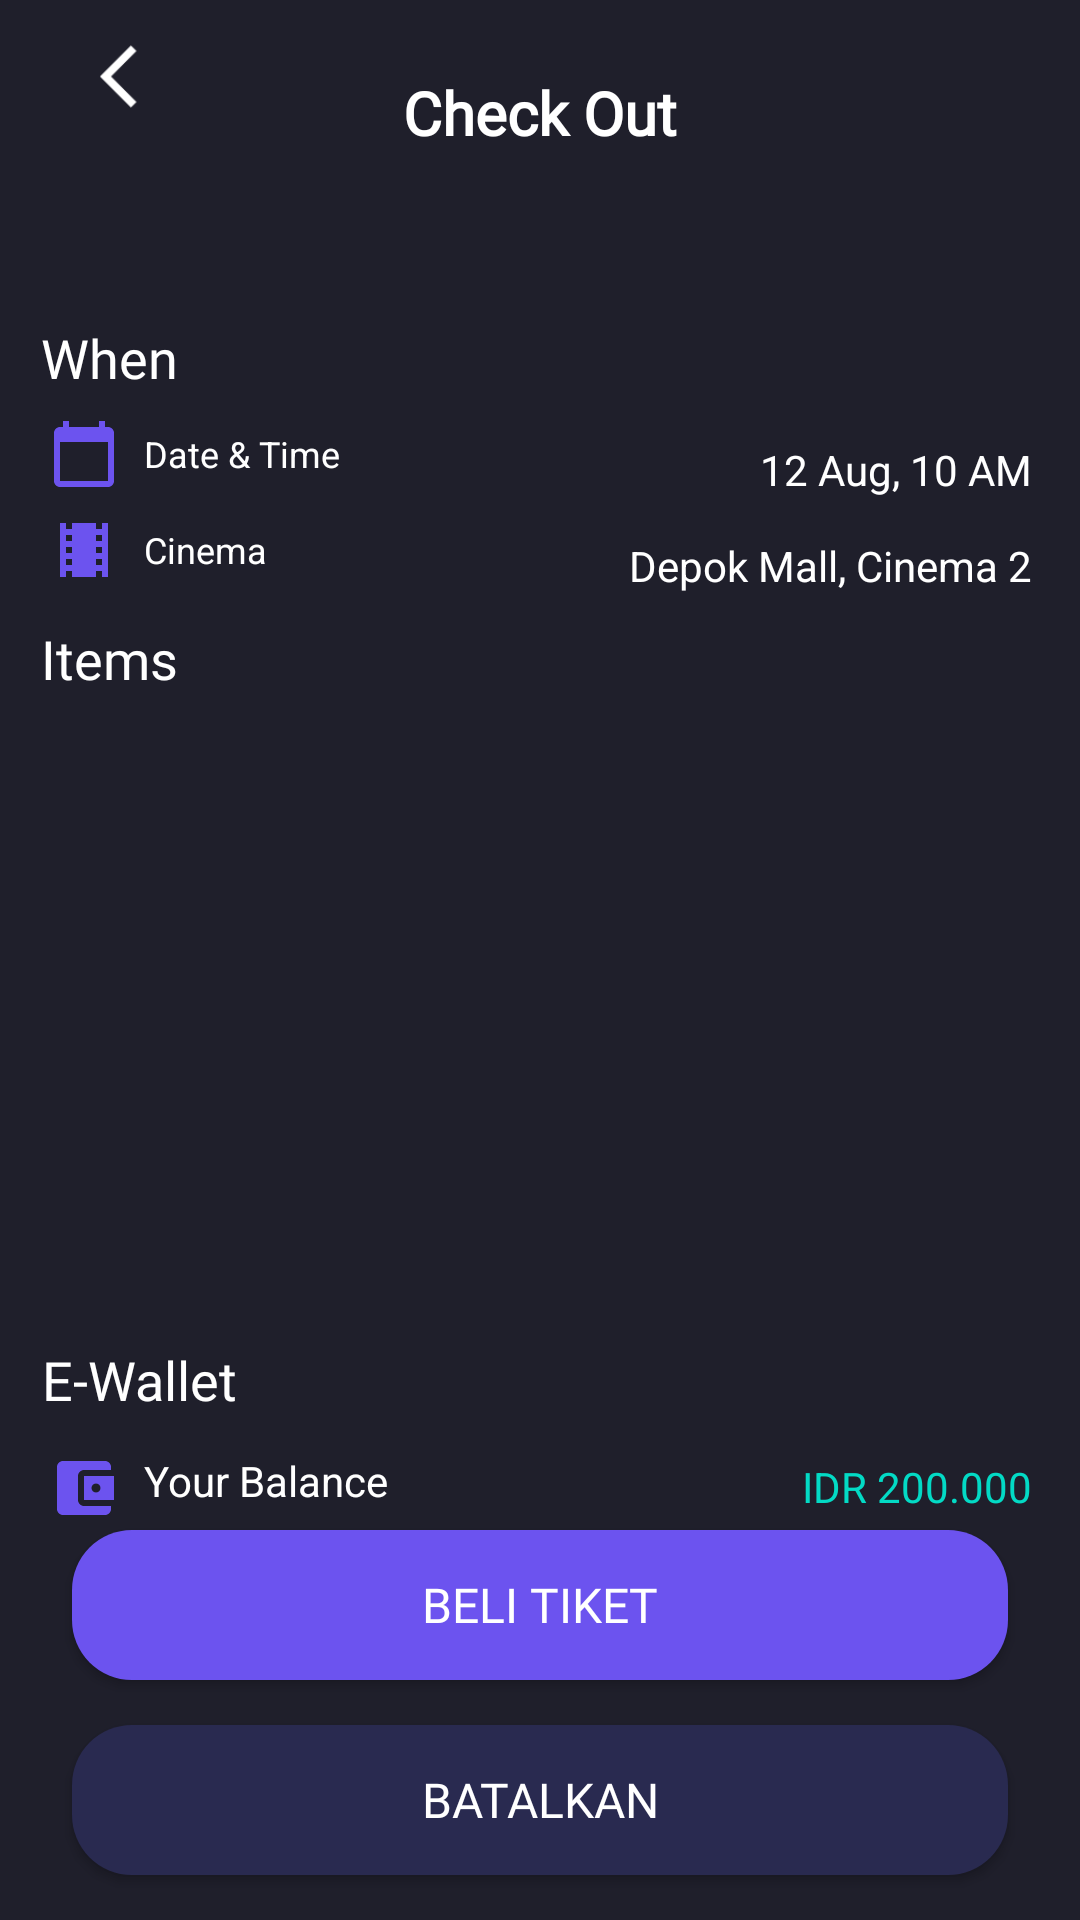

Screen size 1080px x 1920px. Icon name, then its box in pixels as {"left": x1, "top": y1, "right": x2, "bottom": y2}:
arrow back: {"left": 100, "top": 45, "right": 137, "bottom": 108}
